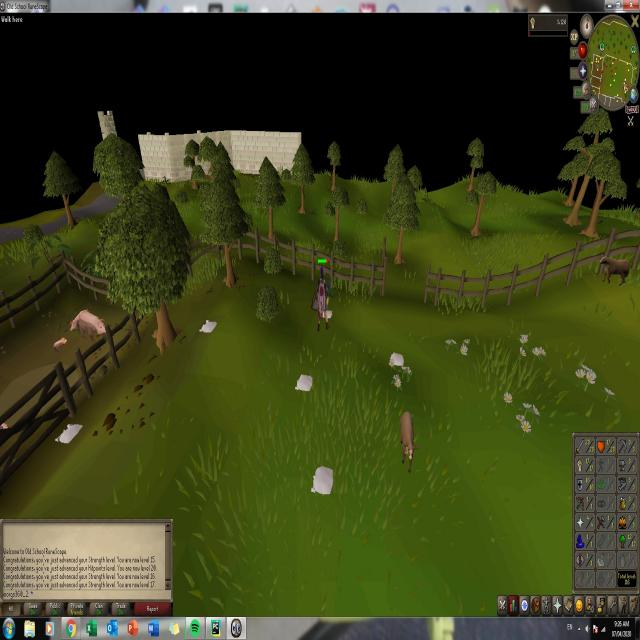cow: (398, 411, 417, 476), (598, 253, 631, 287)
player: (312, 262, 330, 335)
